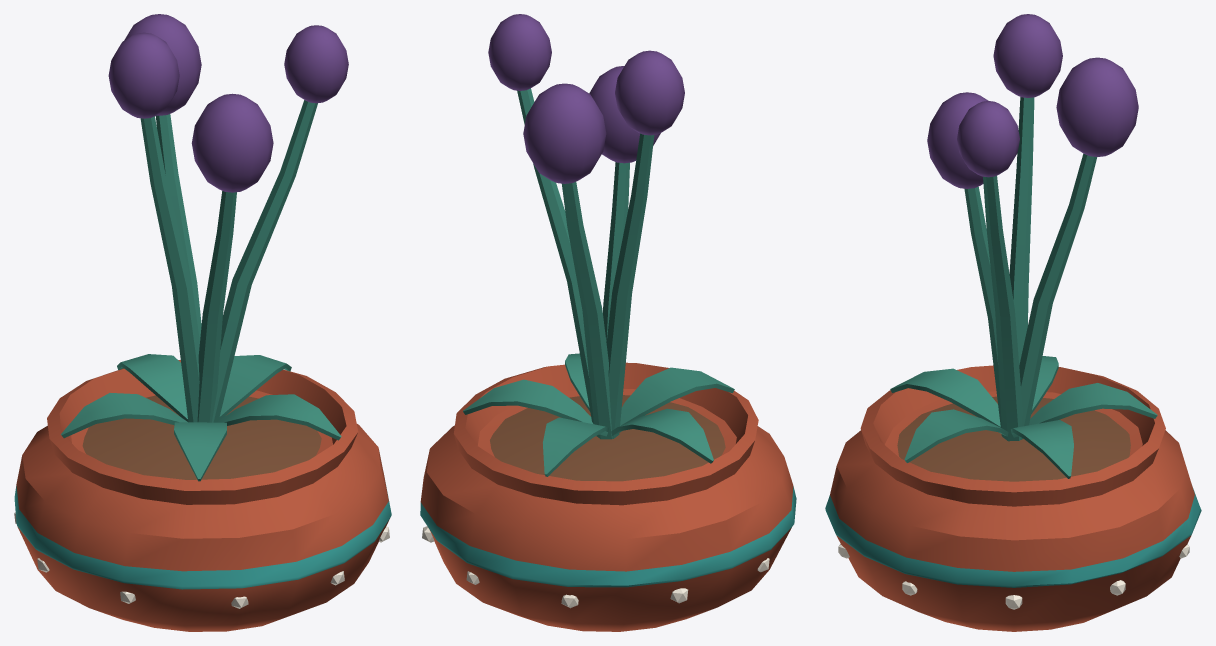
File: deco_plant_pot_bulb.fbx
The picture shows the model from 3 angles, left to right: view 1: azimuth 30°, elevation 25°; view 2: azimuth 150°, elevation 25°; view 3: azimuth 270°, elevation 25°; orthographic projection. The views are drawn at different scales.
Visible parts, largest first — view 1: PlantPot_Bulb_Pot, PlantPot_Bulb_Plant; view 2: PlantPot_Bulb_Pot, PlantPot_Bulb_Plant; view 3: PlantPot_Bulb_Pot, PlantPot_Bulb_Plant.
Part boxes in pixels (x1=…): PlantPot_Bulb_Pot: x1=14, y1=360, x2=391, y2=631; PlantPot_Bulb_Plant: x1=61, y1=14, x2=348, y2=481; PlantPot_Bulb_Pot: x1=420, y1=362, x2=796, y2=631; PlantPot_Bulb_Plant: x1=463, y1=14, x2=734, y2=481; PlantPot_Bulb_Pot: x1=825, y1=365, x2=1201, y2=631; PlantPot_Bulb_Plant: x1=890, y1=14, x2=1157, y2=481.
Size of the model in its own units: 82.91 by 133 by 83.61.
